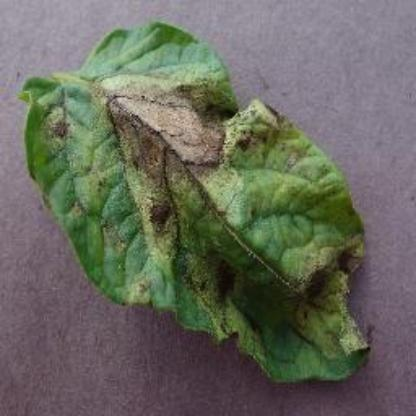Late-Blight: (14, 22, 386, 384)
